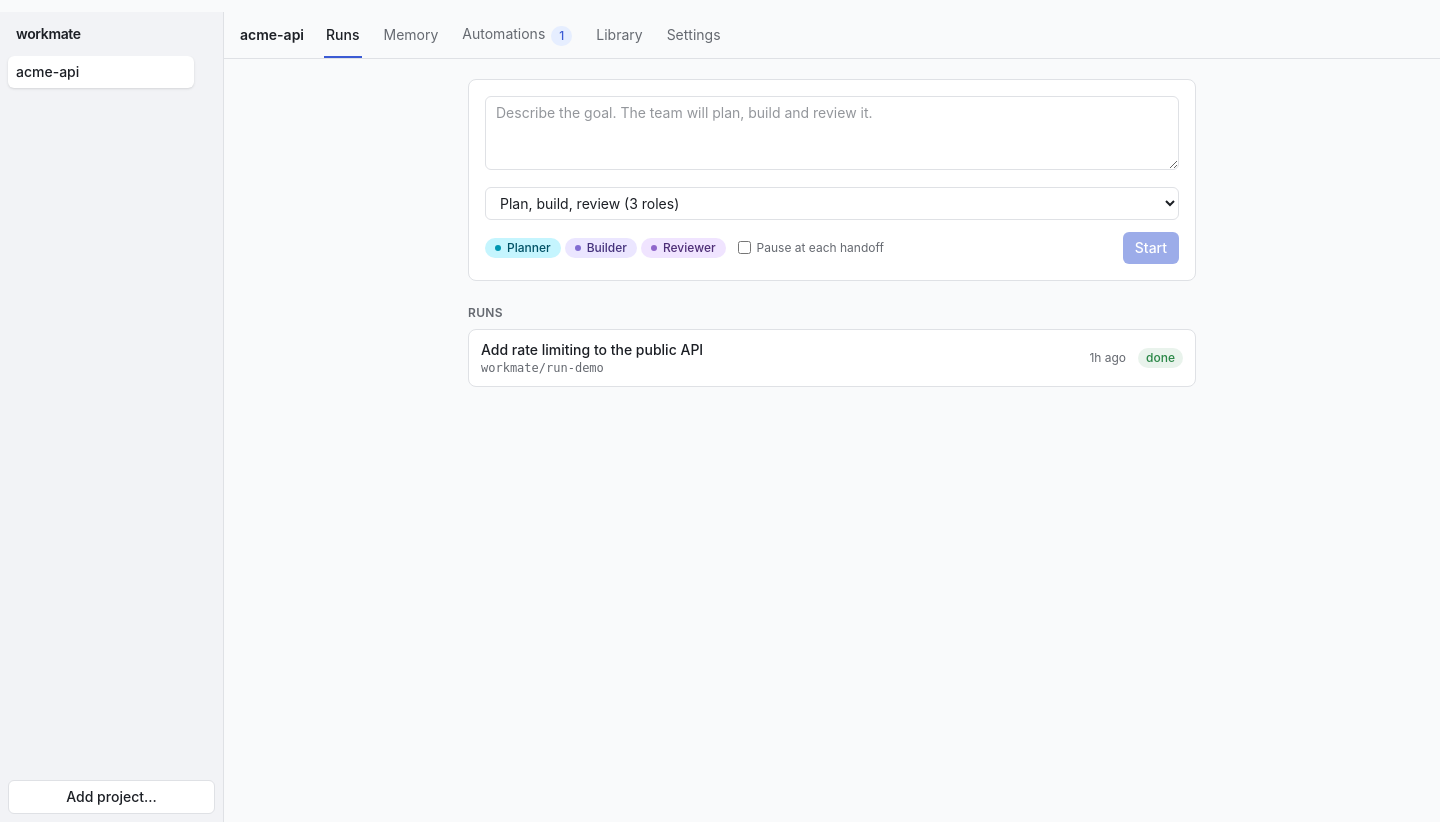
intervening in a team run › pauses at the handoff, shows exactly what the next role will be told, and lets you amend it
Type "Add a health endpoint" into the text box named "What should we work on?". click: (832, 133)
box: [485, 96, 1179, 170]
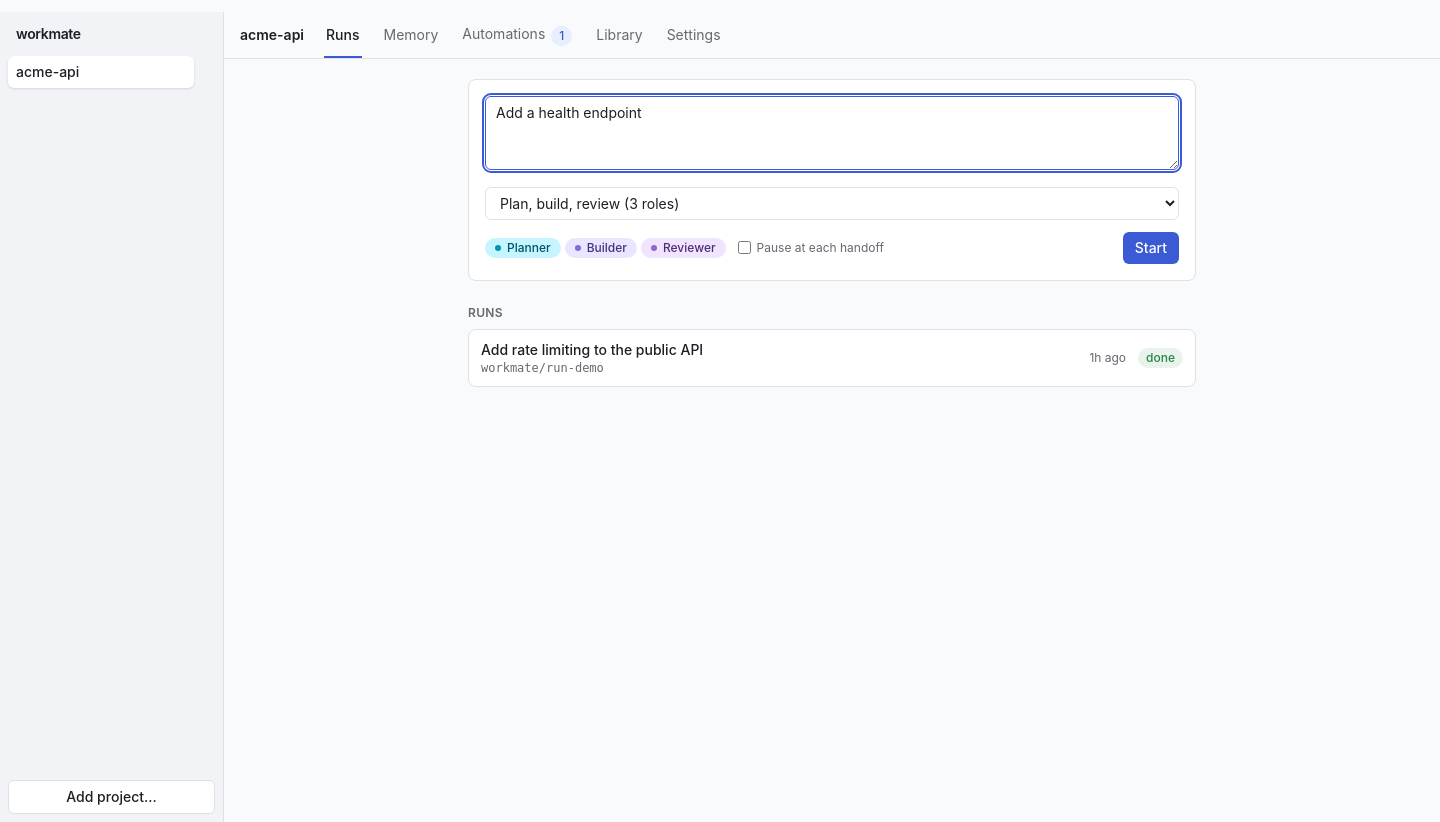
Click the checkbox labelled "Pause at each handoff". click: click(744, 248)
box: [738, 241, 751, 254]
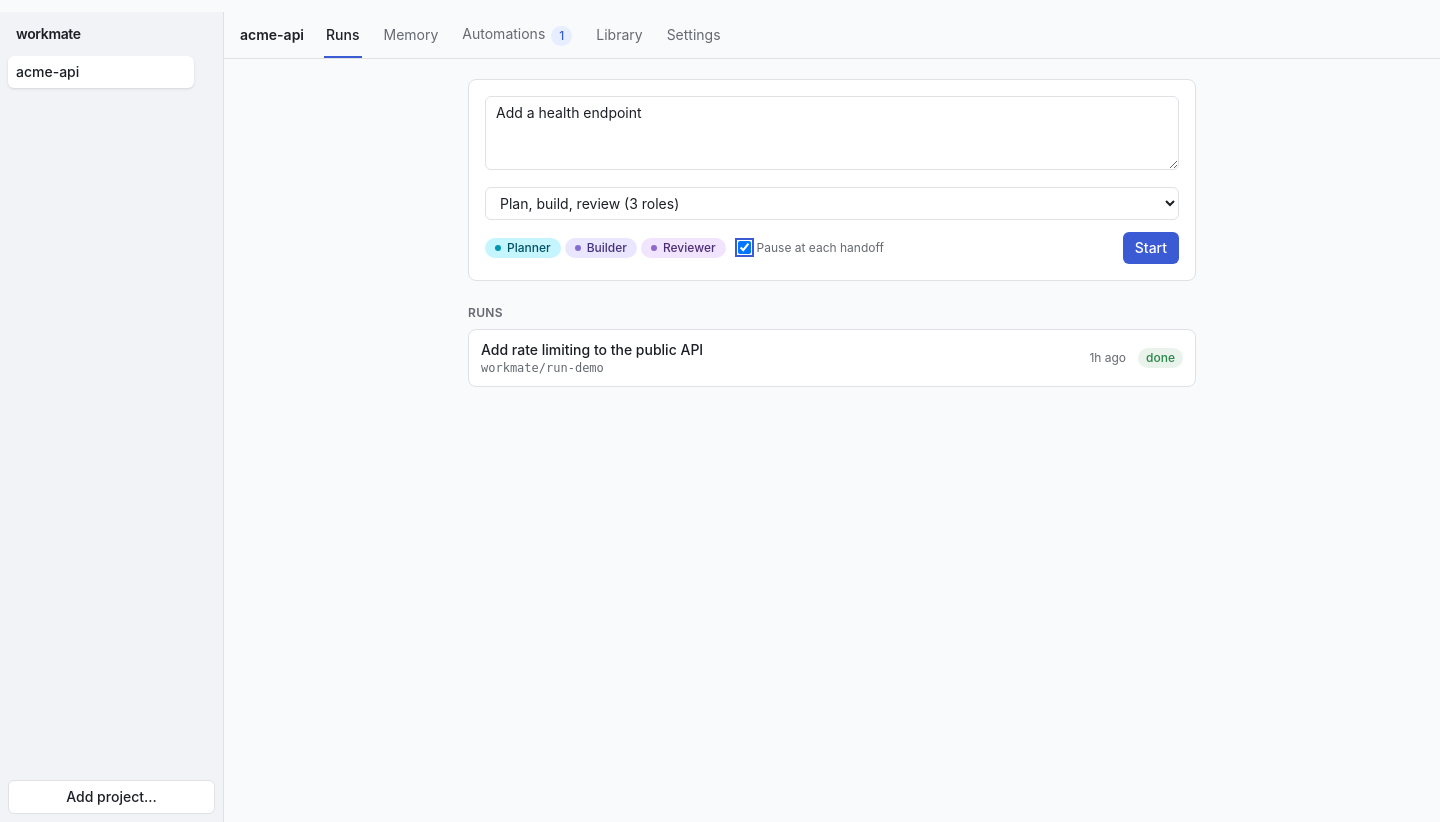
Click the button "Start". click: click(1151, 248)
box: [1123, 232, 1179, 264]
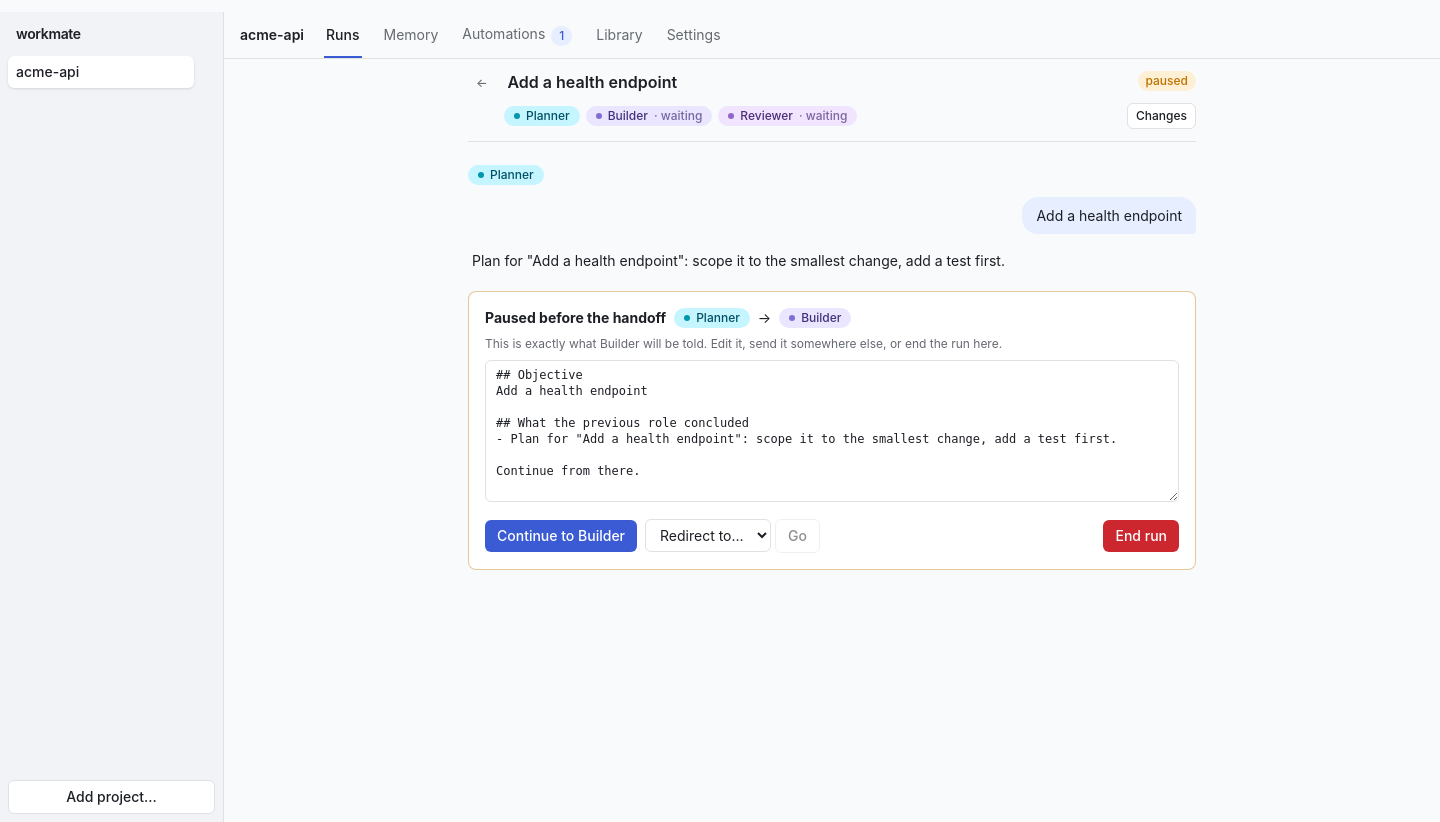
Now the button "Continue to Builder" is shown, box [485, 520, 637, 552]
Replace the text in the text box named "Handoff context" with "Only touch the router.". click: (832, 431)
box: [485, 360, 1179, 502]
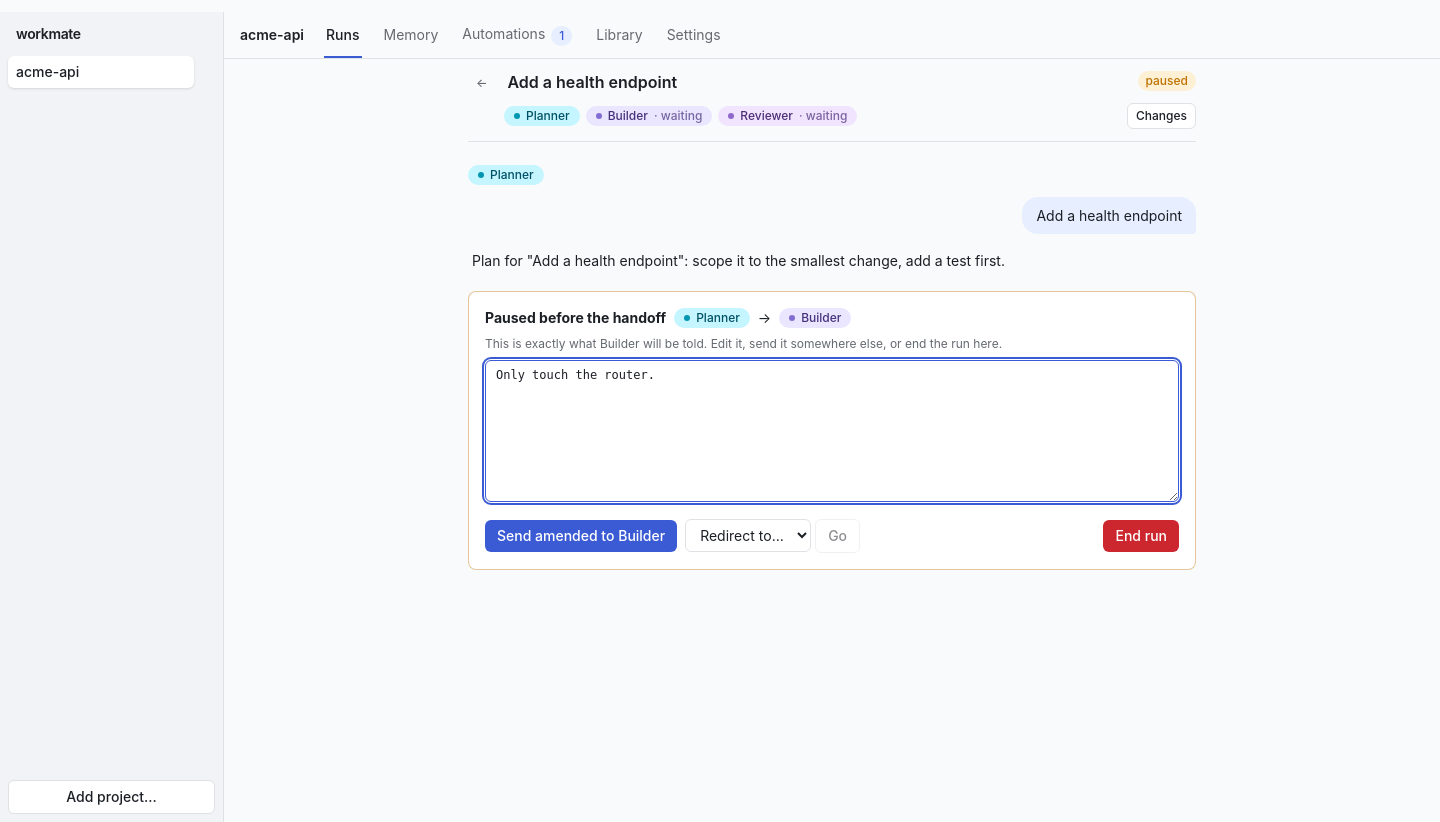
Click the button "Send amended to Builder". click: click(581, 536)
box: [485, 520, 677, 552]
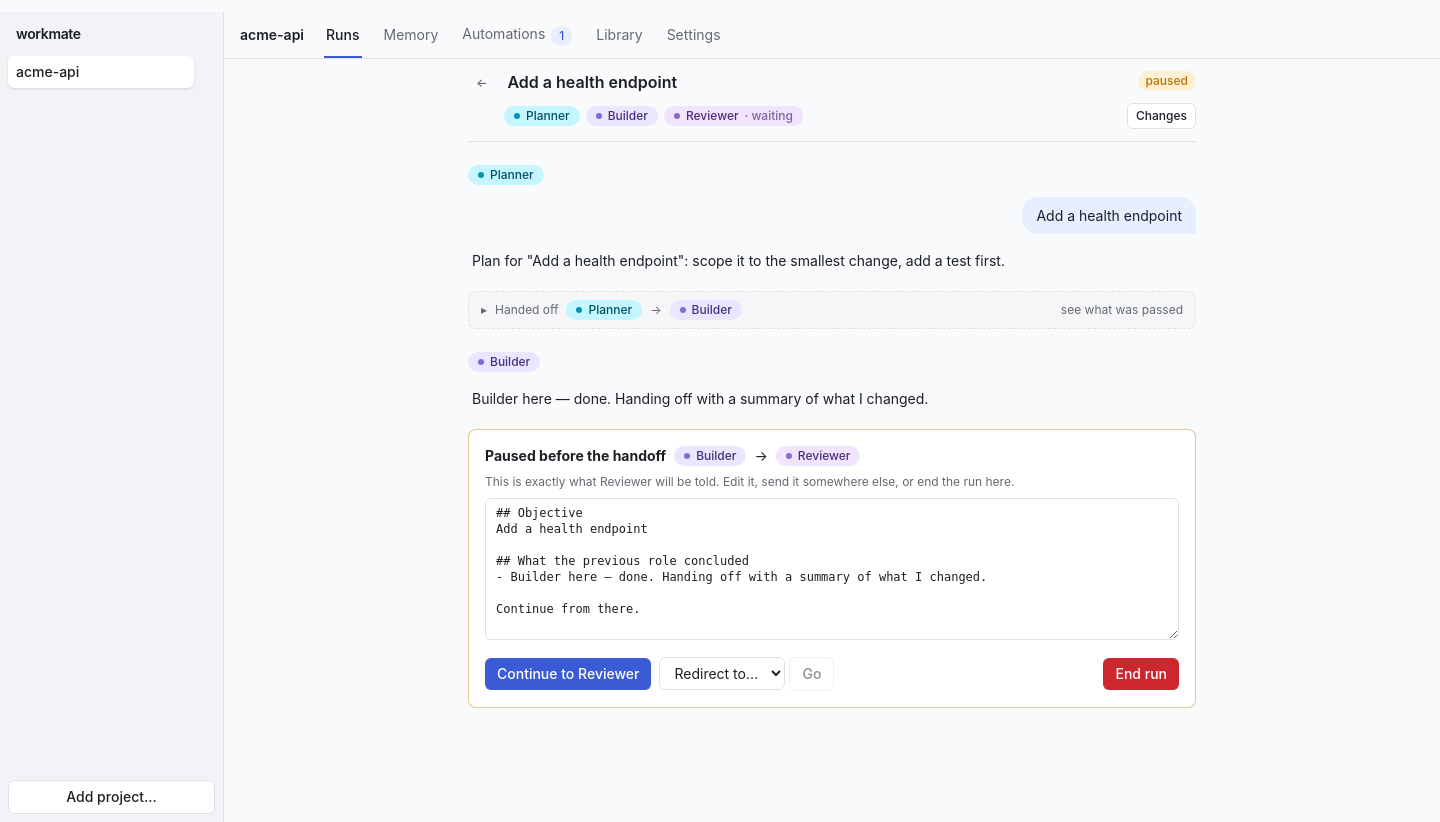
Now the text "Handed off" is shown, box [495, 302, 558, 318]
